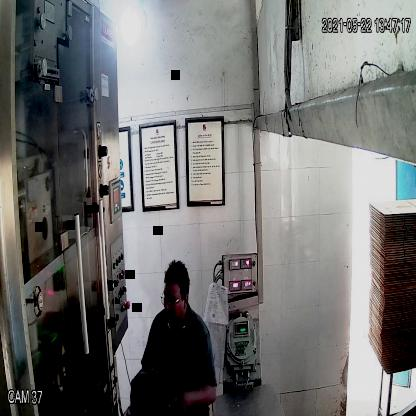goggles: (158, 289, 188, 309)
